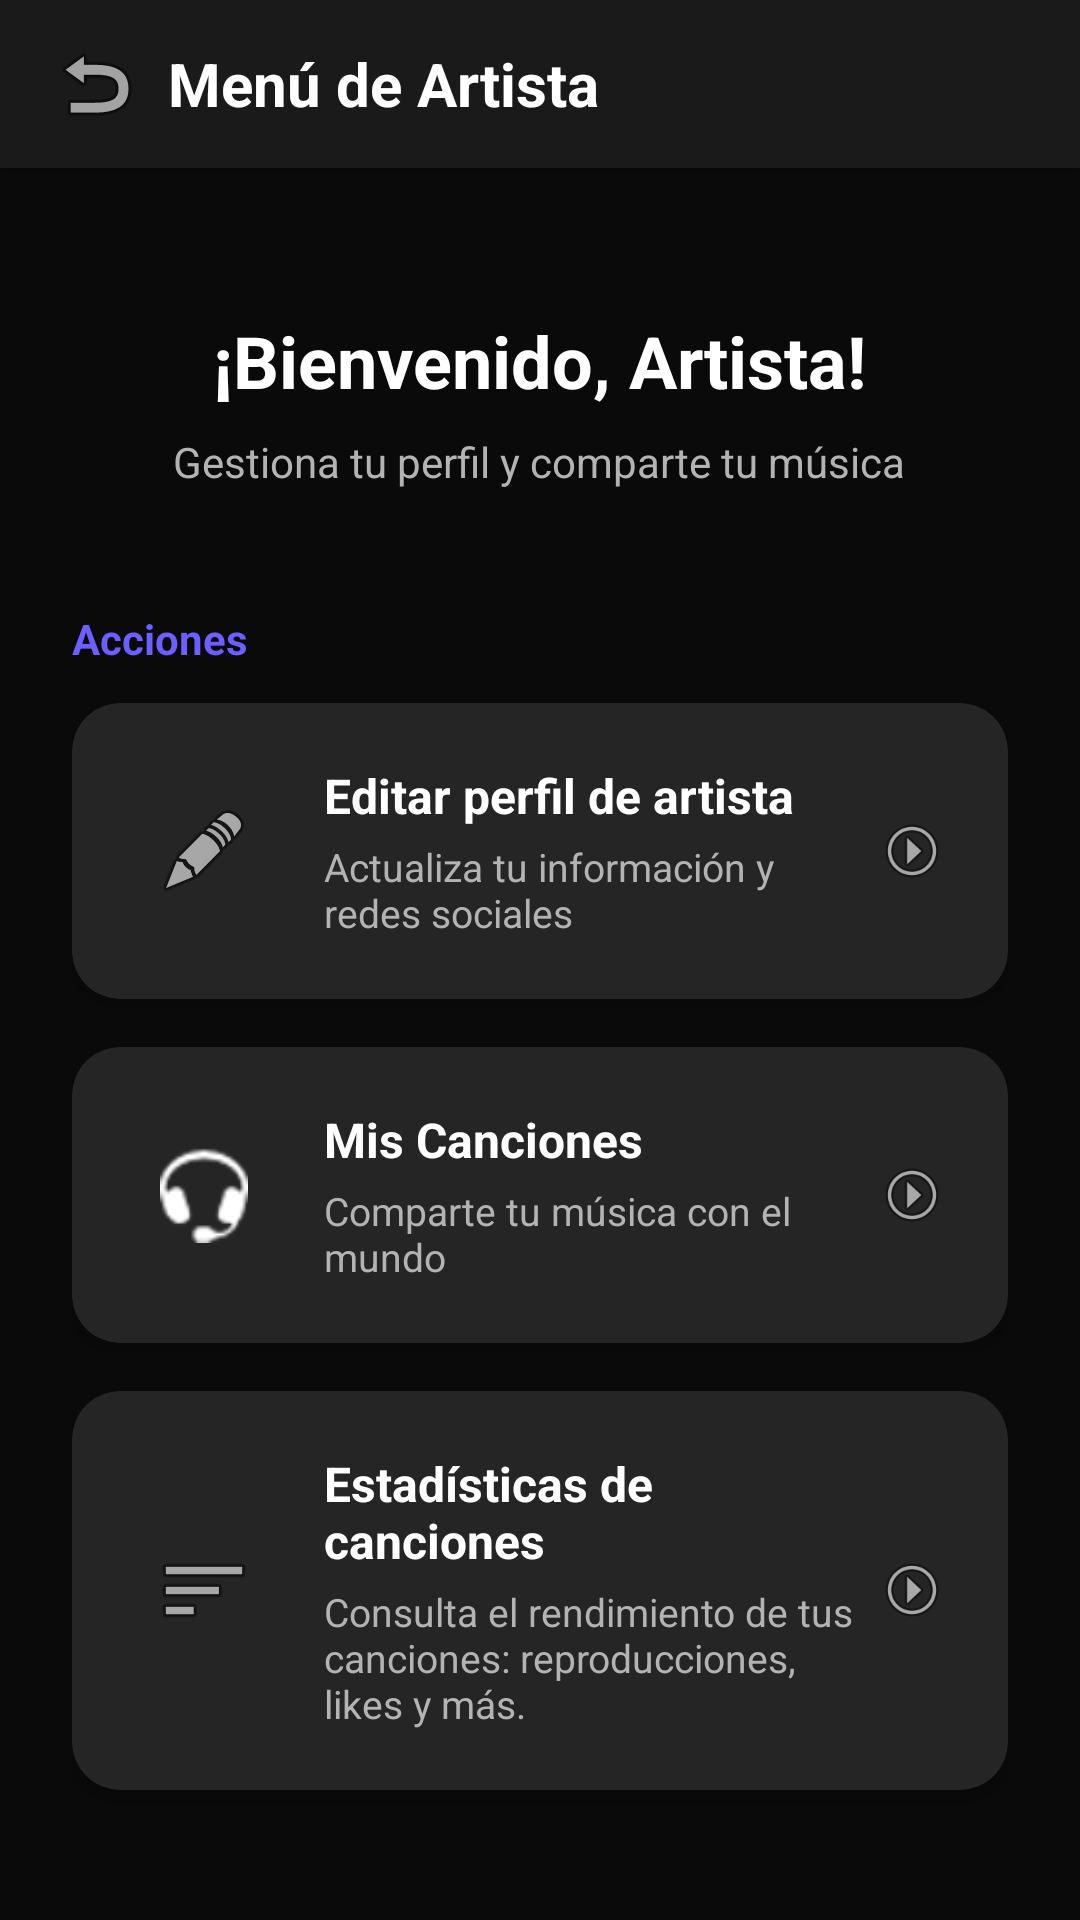

Screen size 1080px x 1920px. Icon name, then its center in pixels as (x,y):
headset: (204,1196)
sort by size: (204,1590)
Volver: (97,84)
